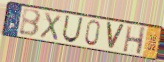0: (84, 19, 101, 47)
B: (18, 8, 43, 38)
H: (121, 24, 147, 56)
U: (61, 15, 84, 44)
V: (105, 21, 126, 51)
X: (38, 11, 63, 42)
